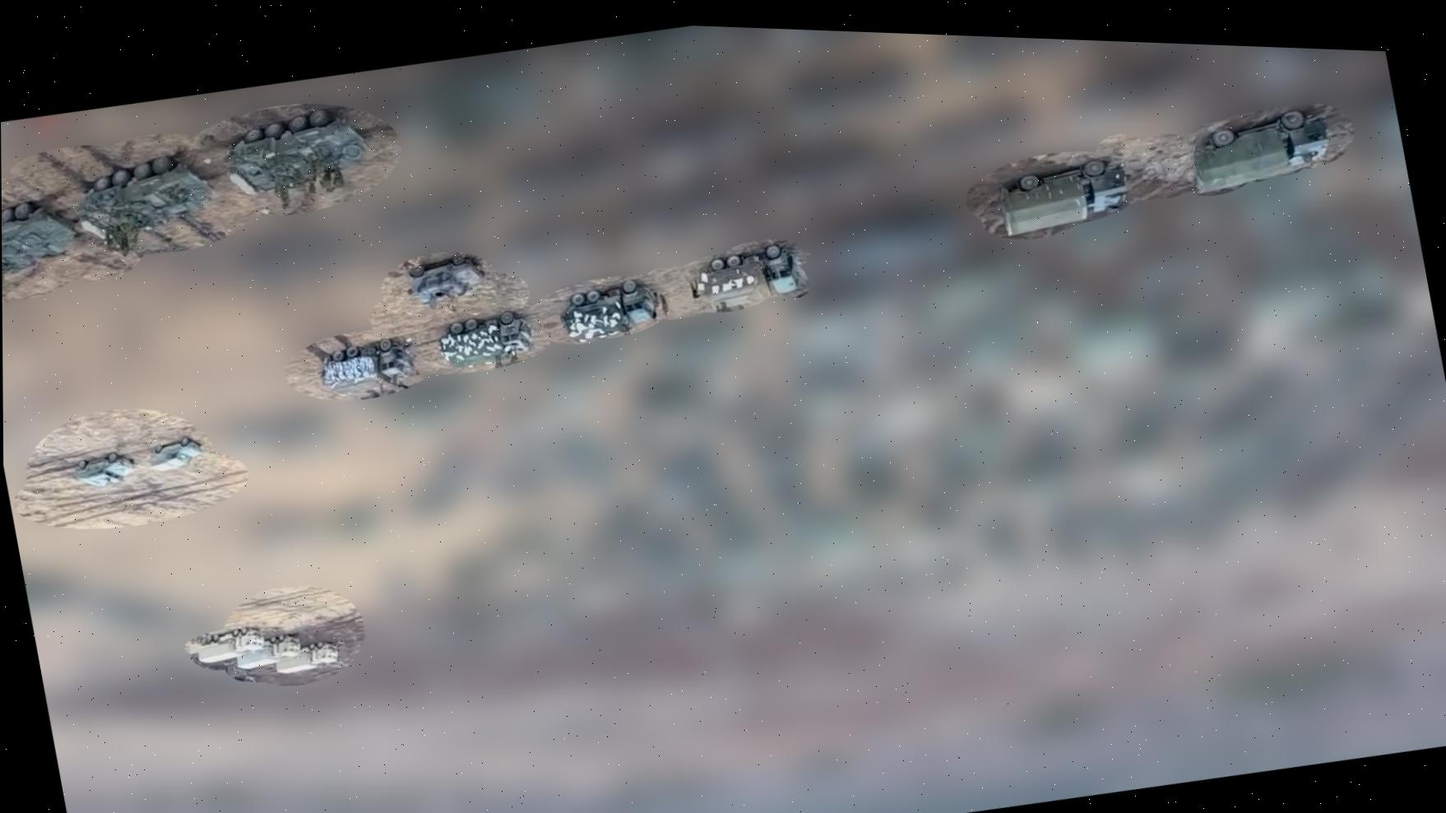armored_car: (215, 96, 375, 205), (78, 144, 225, 246), (1, 190, 80, 284), (401, 245, 489, 310), (72, 446, 139, 493), (145, 432, 206, 475)
truck: (1181, 100, 1338, 200), (990, 148, 1137, 244), (551, 271, 661, 350), (689, 235, 801, 312), (313, 329, 420, 403), (434, 305, 535, 375), (192, 620, 266, 665)
